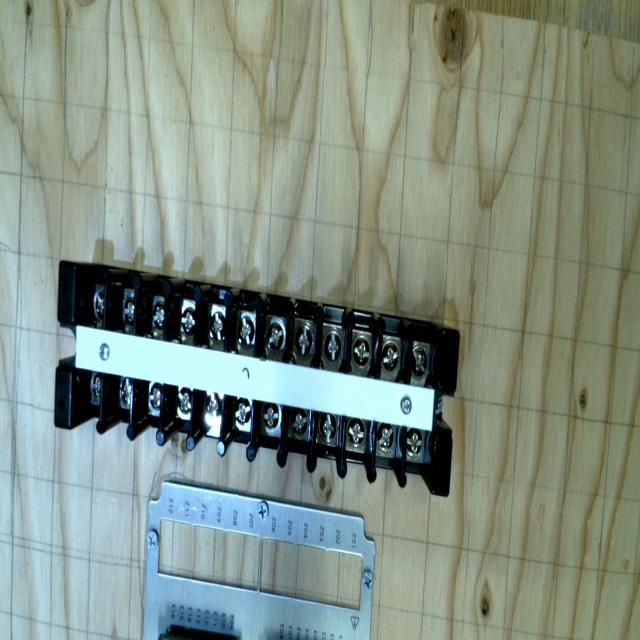Phillips_Block: (31, 262, 477, 496)
